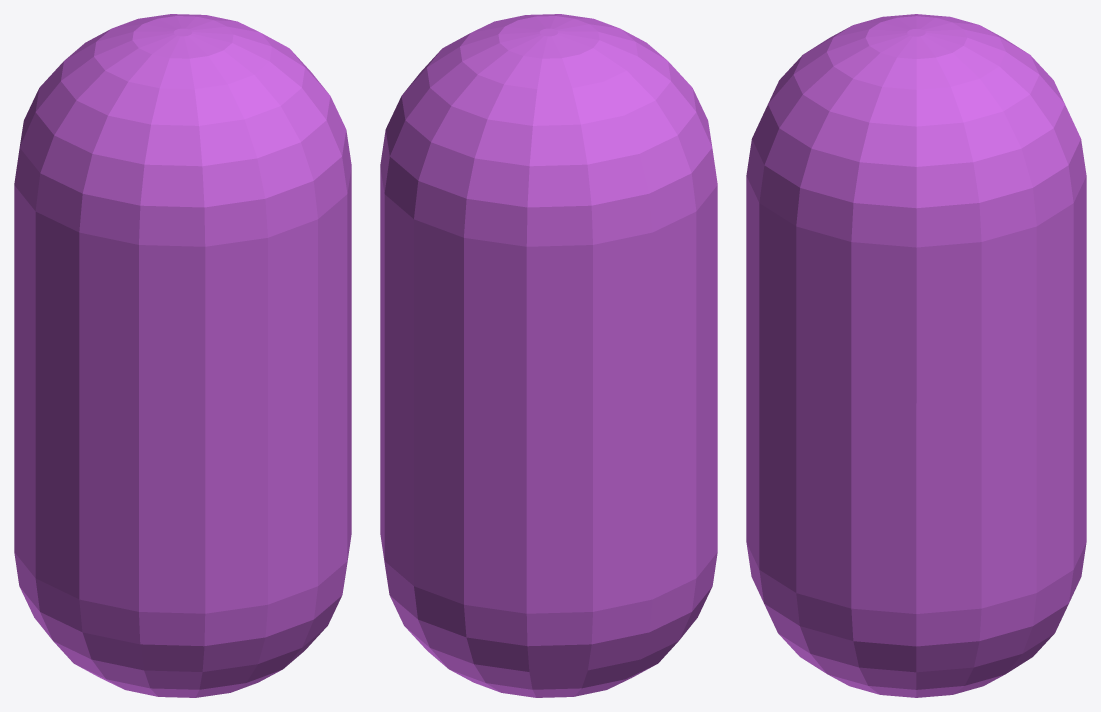
The model's file is Player1.fbx.
3 renders of one model, left to right at view 1: azimuth 30°, elevation 25°; view 2: azimuth 150°, elevation 25°; view 3: azimuth 270°, elevation 25°, orthographic.
Parts seen in each view (by area): view 1: Player1; view 2: Player1; view 3: Player1.
Boxes of the visible parts, bbox=[...] form: Player1: bbox=[14, 14, 351, 697]; Player1: bbox=[380, 14, 717, 697]; Player1: bbox=[746, 14, 1086, 697].
Bounding box in the file's own units: 100 × 209 × 100.
